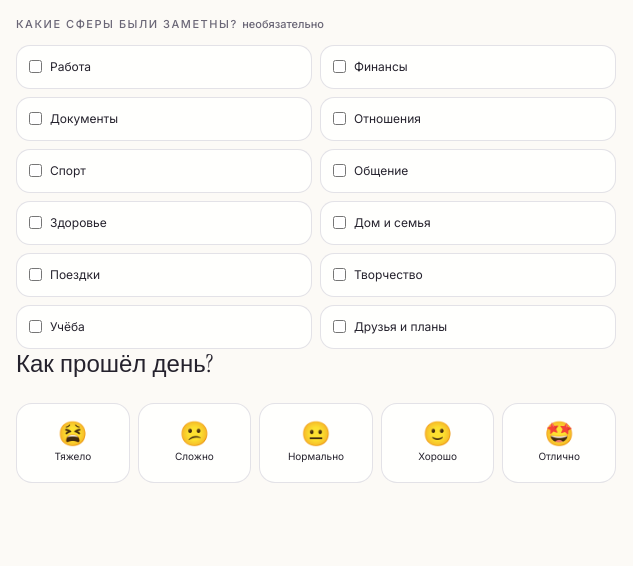
CheckinScreen › submits the three-tap numeric contract through the real API client
The width and height of the screenshot is (633, 566).
Later steps or results of the test are not shown.
Click the button with test id "mood-5": [559, 442] box [502,402,616,482]
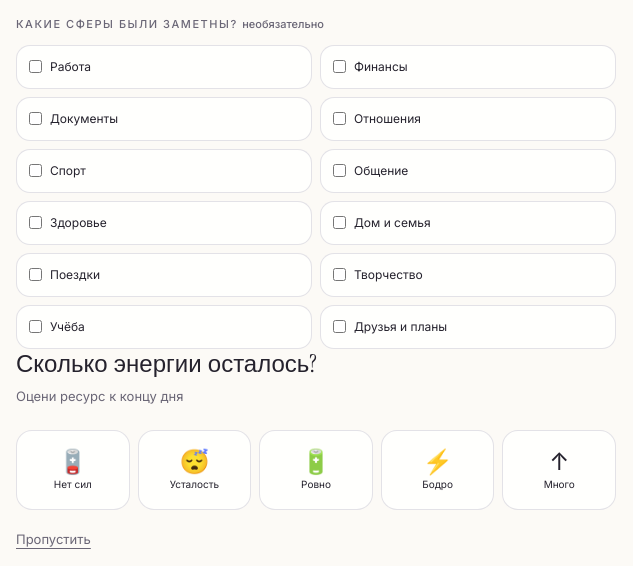
Click the button with test id "energy-4": [438, 470] box [381,430,494,510]
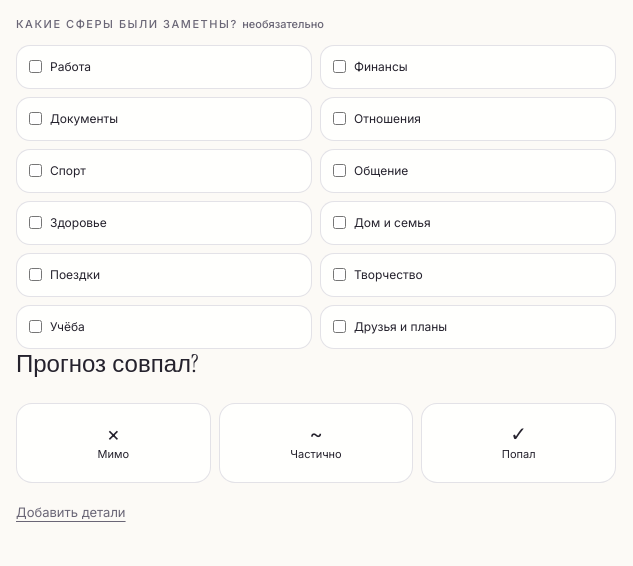
Click the button with test id "accuracy-3": [519, 442] box [421,402,616,482]
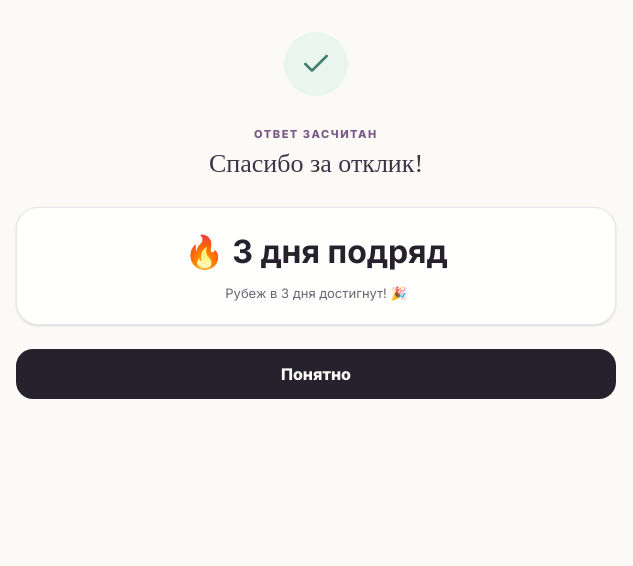
Result: the element with test id "checkin-post-submit" is shown
Result: the heading "Спасибо за отклик!" is shown at [209,149,423,178]
Result: the text "3 дня подряд" is shown at [232,228,448,276]
